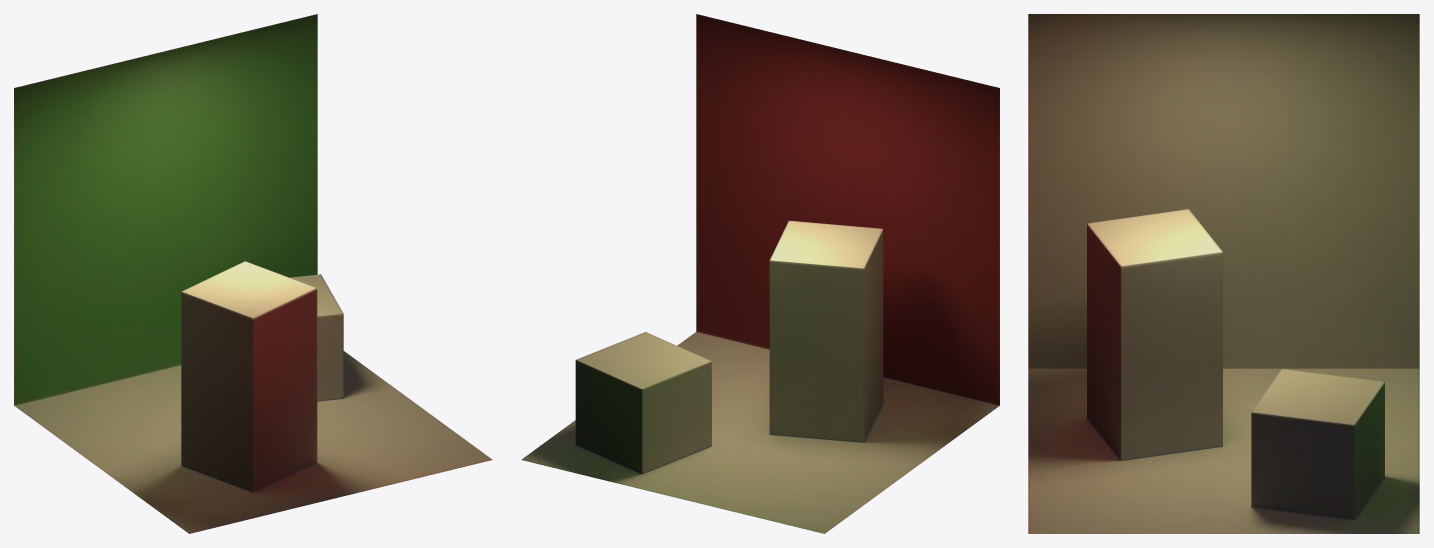
File: cornellbox_tessellated.gltf
The picture shows the model from 3 angles, left to right: view 1: azimuth 30°, elevation 25°; view 2: azimuth 150°, elevation 25°; view 3: azimuth 270°, elevation 25°; orthographic projection. The views are drawn at different scales.
Visible parts, largest first — view 1: Plane; view 2: Plane; view 3: Plane.
Boxes of the visible parts, x1,y1,x2,y2 form: Plane: [14, 14, 492, 533]; Plane: [521, 14, 999, 533]; Plane: [1028, 14, 1419, 533].
Size of the model in its own units: 2 by 2.02 by 2.
Materials: 1 (1 with a texture image).
